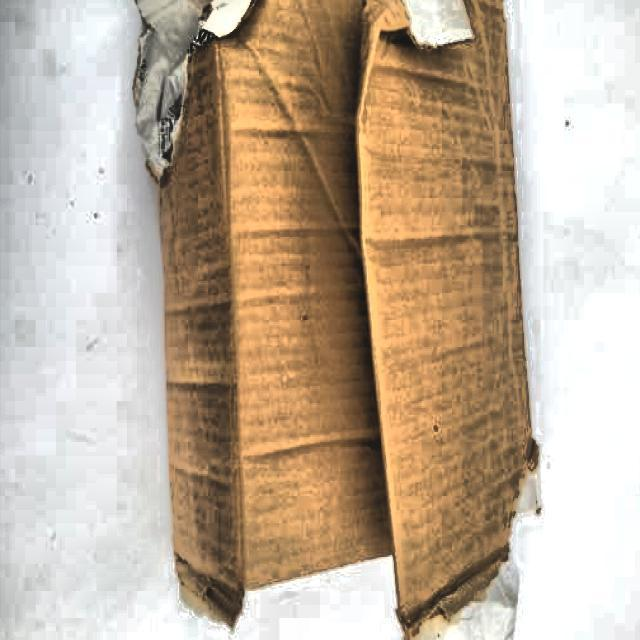cardboard: (156, 0, 542, 640)
